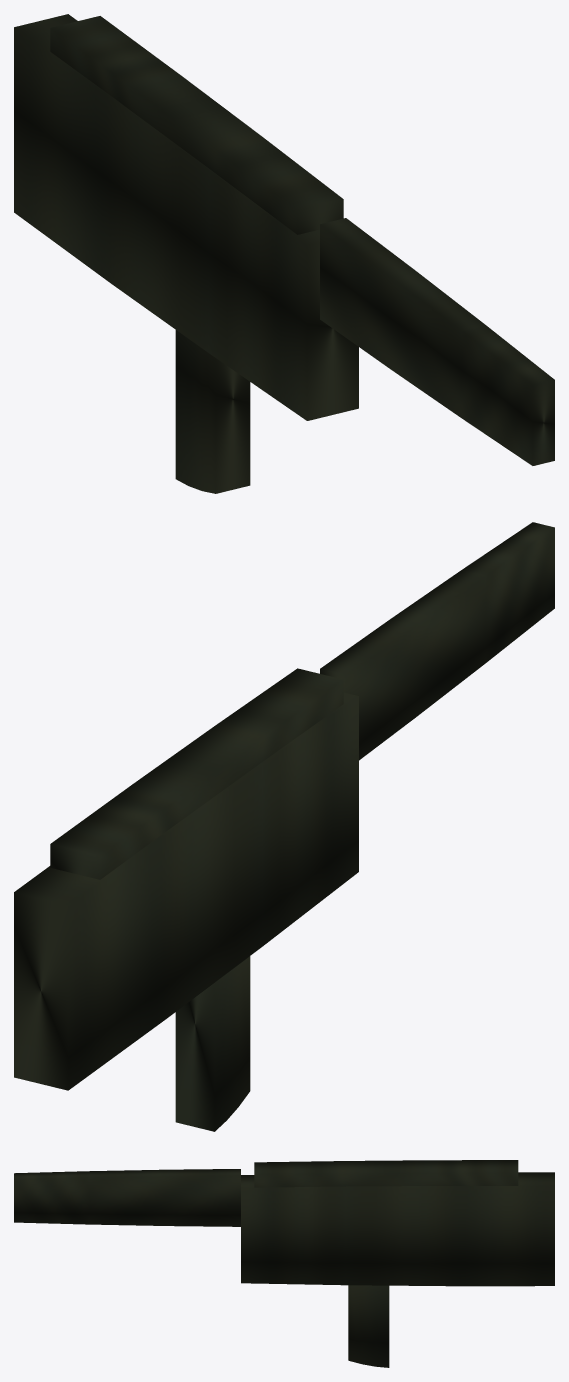
The model's file is wpn_aug_a2.glb.
The picture shows the model from 3 angles, top to bottom: view 1: azimuth 30°, elevation 25°; view 2: azimuth 150°, elevation 25°; view 3: azimuth 270°, elevation 25°; orthographic projection. The views are drawn at different scales.
Parts seen in each view (by area): view 1: SubMesh_0_Receiver, SubMesh_3_BarrelSight, SubMesh_1_Action, SubMesh_2_Magazine; view 2: SubMesh_0_Receiver, SubMesh_3_BarrelSight, SubMesh_1_Action, SubMesh_2_Magazine; view 3: SubMesh_0_Receiver, SubMesh_3_BarrelSight, SubMesh_1_Action, SubMesh_2_Magazine.
Boxes of the visible parts, x1,y1,x2,y2 form: SubMesh_0_Receiver: (14,14,358,420); SubMesh_3_BarrelSight: (320,218,554,465); SubMesh_1_Action: (50,16,343,234); SubMesh_2_Magazine: (175,330,250,493); SubMesh_0_Receiver: (14,692,358,1090); SubMesh_3_BarrelSight: (320,522,554,760); SubMesh_1_Action: (50,668,343,879); SubMesh_2_Magazine: (175,956,250,1131); SubMesh_0_Receiver: (241,1172,554,1286); SubMesh_3_BarrelSight: (14,1169,240,1226); SubMesh_1_Action: (254,1160,518,1187); SubMesh_2_Magazine: (348,1285,389,1367).
Bounding box in the file's own units: 0.0581 × 0.3723 × 0.93.
1 material, 1 textured.
